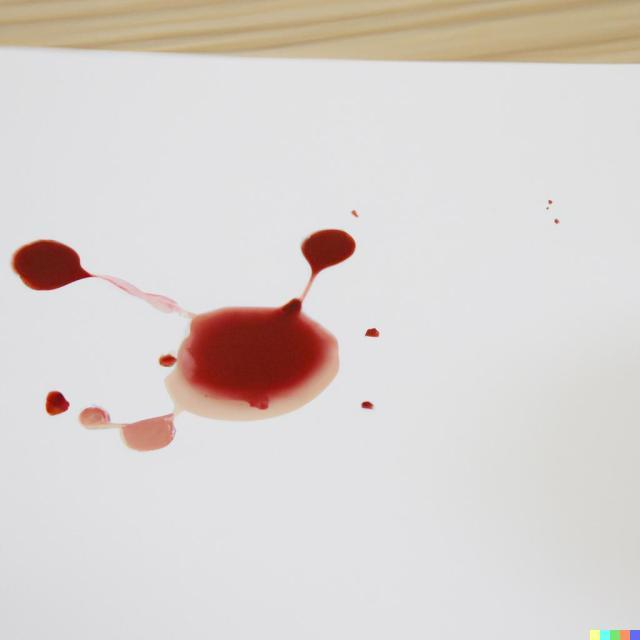Bloodstain-Detection: (193, 313, 317, 398), (23, 243, 66, 283), (302, 240, 350, 267)
